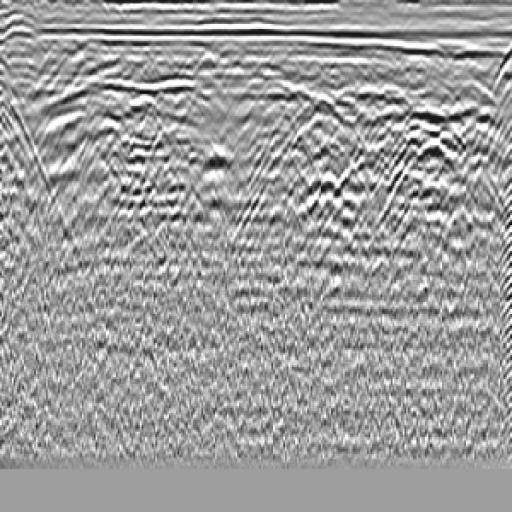metalic: (65, 67, 226, 129)
